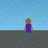person: (23, 18, 34, 40)
